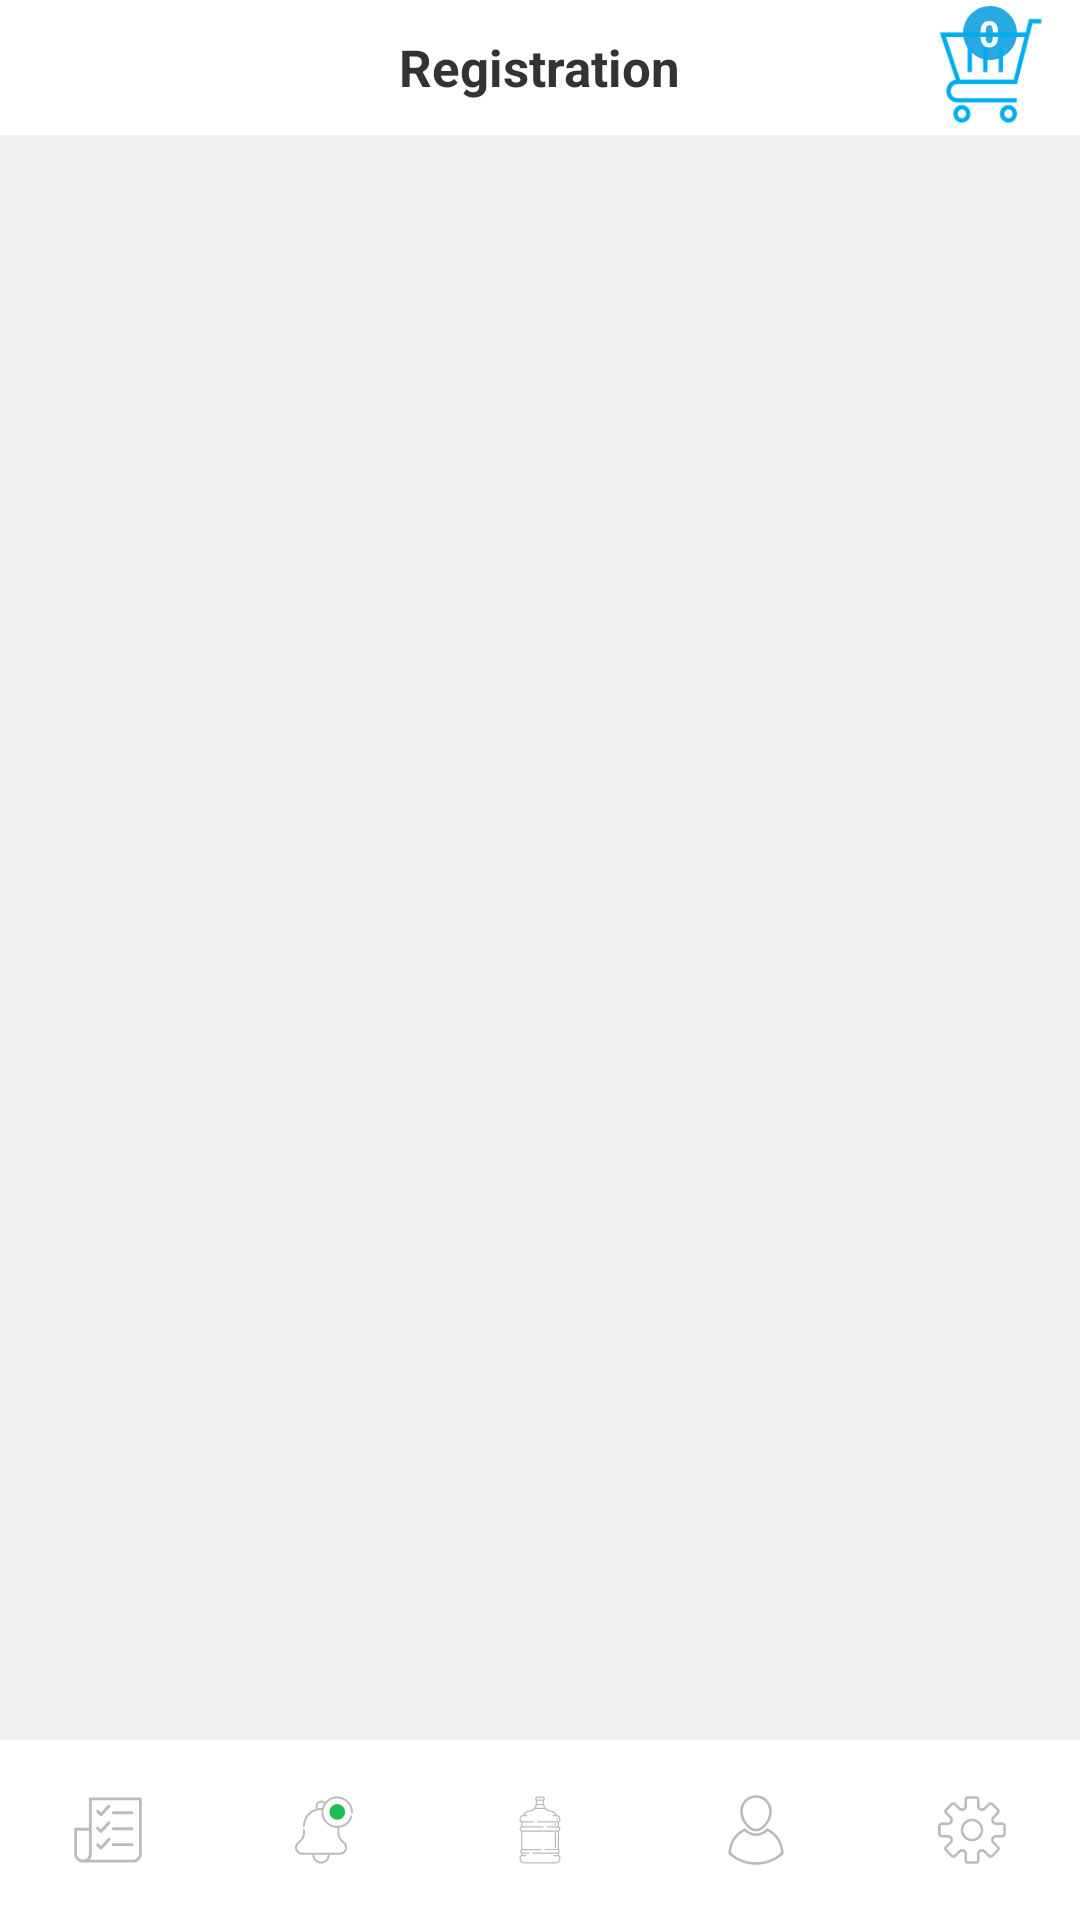

Named icons in this screenshot (1080 × 1920) and their centers, (x=x, y=y):
bottle of water: (x=540, y=1830)
cart: (x=990, y=65)
notification: (x=324, y=1830)
settings: (x=972, y=1830)
user: (x=756, y=1830)
